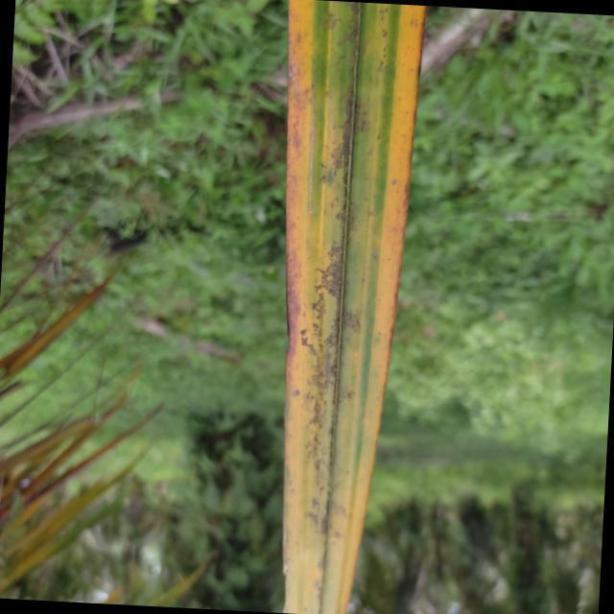Megnesium: (280, 0, 425, 614)
